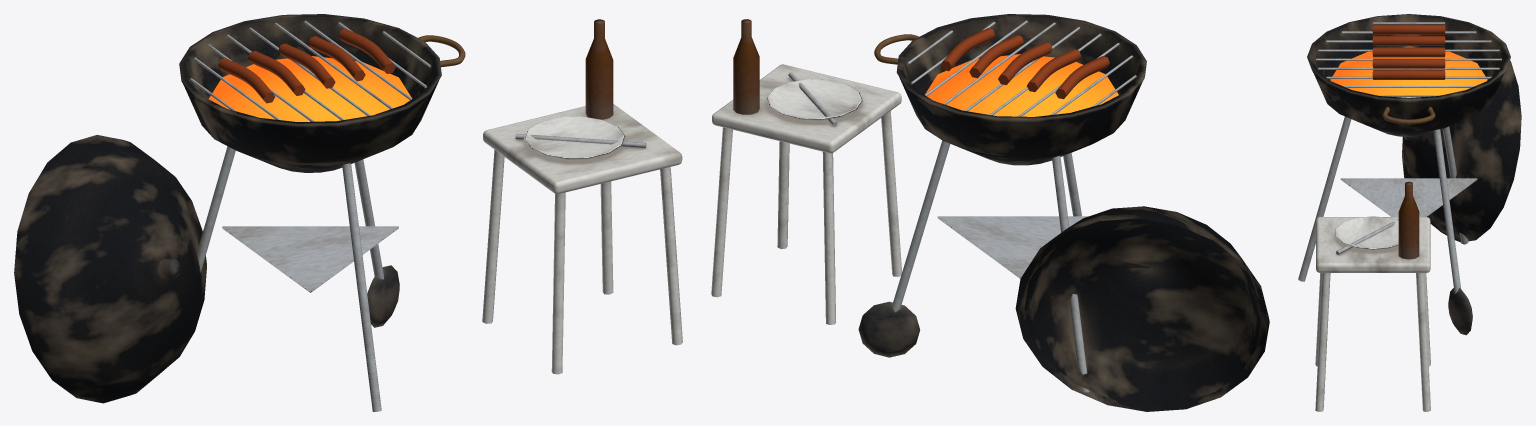
File: pod_grill.glb
3 views of the same model, side by side, from view 1: azimuth 30°, elevation 25°; view 2: azimuth 150°, elevation 25°; view 3: azimuth 270°, elevation 25° (orthographic). The views are drawn at different scales.
Parts seen in each view (by area): view 1: Grill, Swiatlo, Kielbaski; view 2: Grill, Swiatlo, Kielbaski; view 3: Grill, Kielbaski, Swiatlo.
Boxes of the visible parts, <box> form: Grill: <box>14,14,682,411</box>; Swiatlo: <box>209,56,411,121</box>; Kielbaski: <box>218,28,395,103</box>; Grill: <box>711,14,1269,411</box>; Swiatlo: <box>925,54,1118,116</box>; Kielbaski: <box>941,28,1109,99</box>; Grill: <box>1298,14,1521,411</box>; Kielbaski: <box>1372,24,1445,79</box>; Swiatlo: <box>1330,46,1487,97</box>.
Bounding box in the file's own units: 1.47 × 0.7578 × 0.6239.
Materials: 3 (1 with a texture image).
